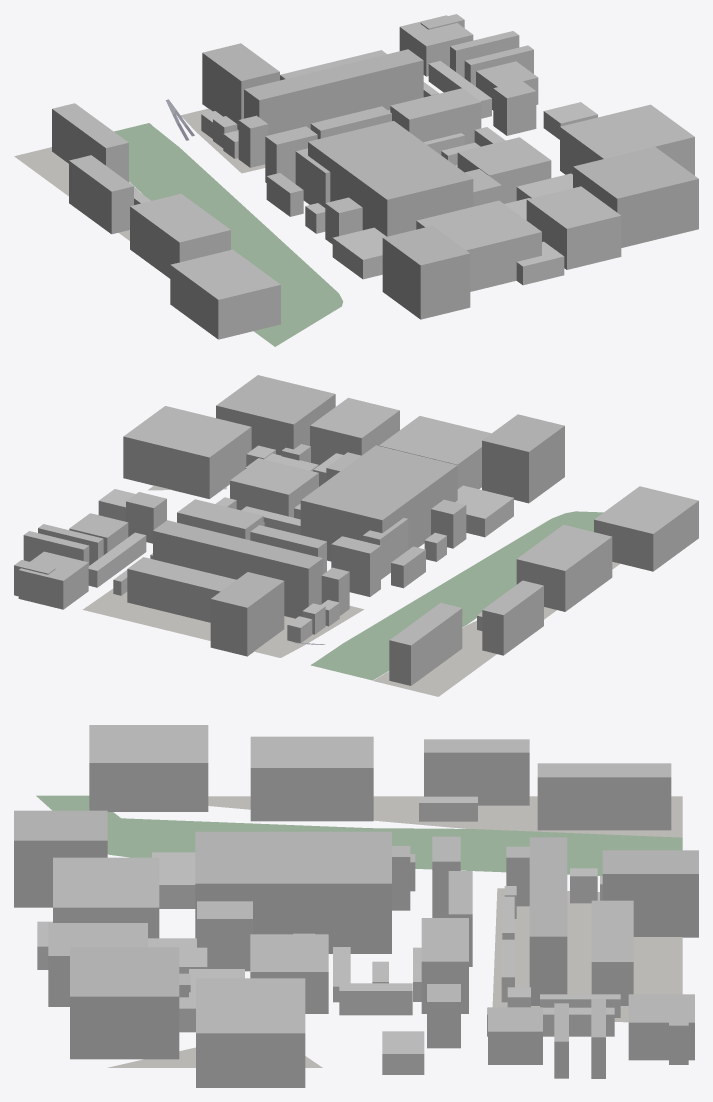
The model's file is 116_91_mid.glb.
3 renders of one model, top to bottom at view 1: azimuth 30°, elevation 25°; view 2: azimuth 150°, elevation 25°; view 3: azimuth 270°, elevation 25°, orthographic. The views are drawn at different scales.
Bounding box in the file's own units: 575 × 61.07 × 530.
